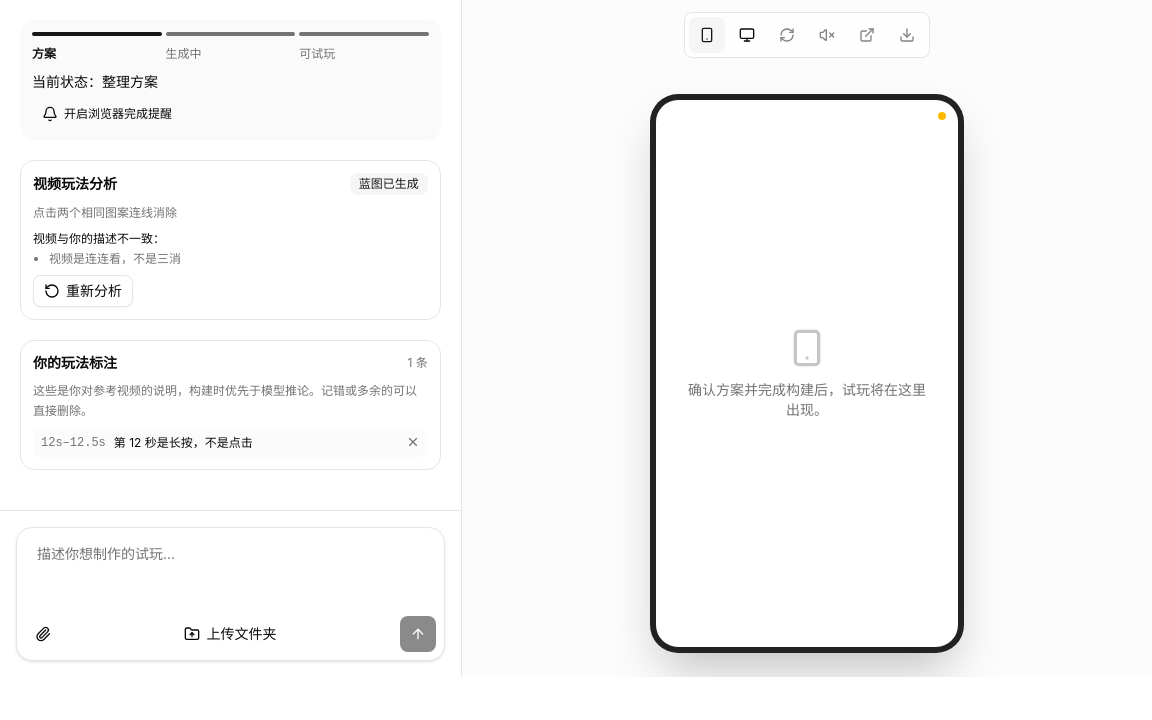
reference video analysis in the workspace › keeps the annotation list on screen and deletes an entry through the API
Check: the element "玩法标注" shows "第 12 秒是长按，不是点击", box [114,435,253,450]
Check: the element "玩法标注" shows "12s–12.5s", box [41,436,106,450]
Click the button named "删除标注 第 12 秒是长按，不是点击": (413, 442) [406,435,420,449]
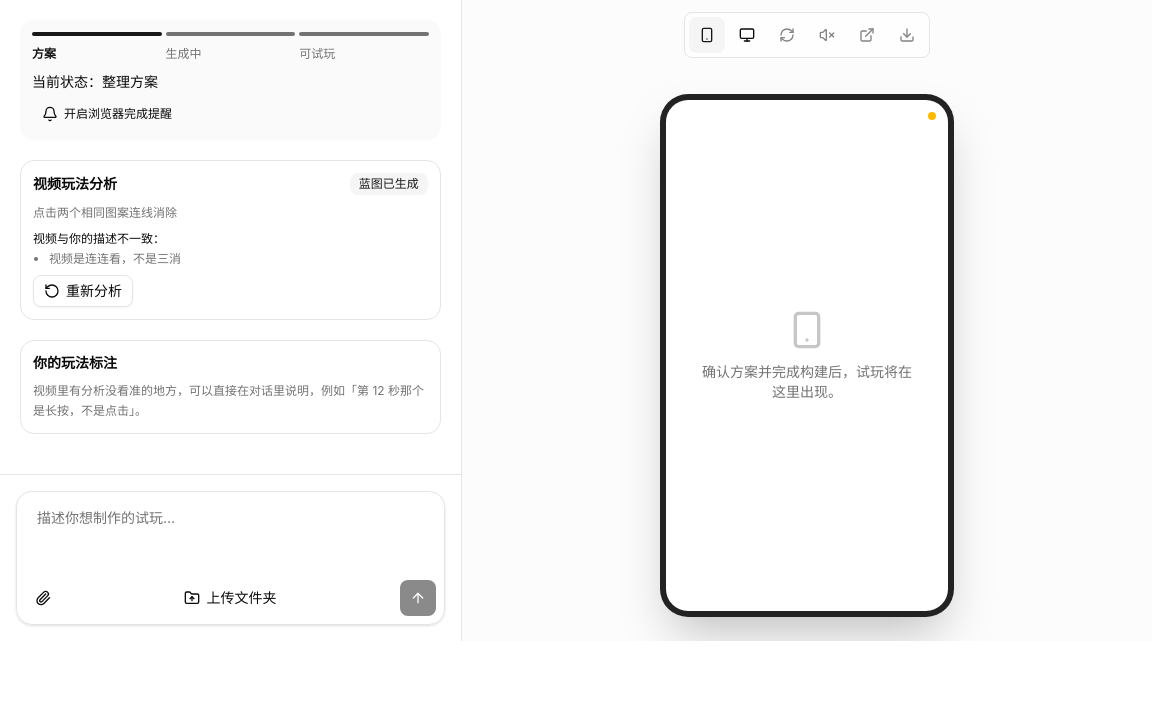
Check: the element "玩法标注" no longer shows "第 12 秒是长按，不是点击", box [20,340,441,434]
